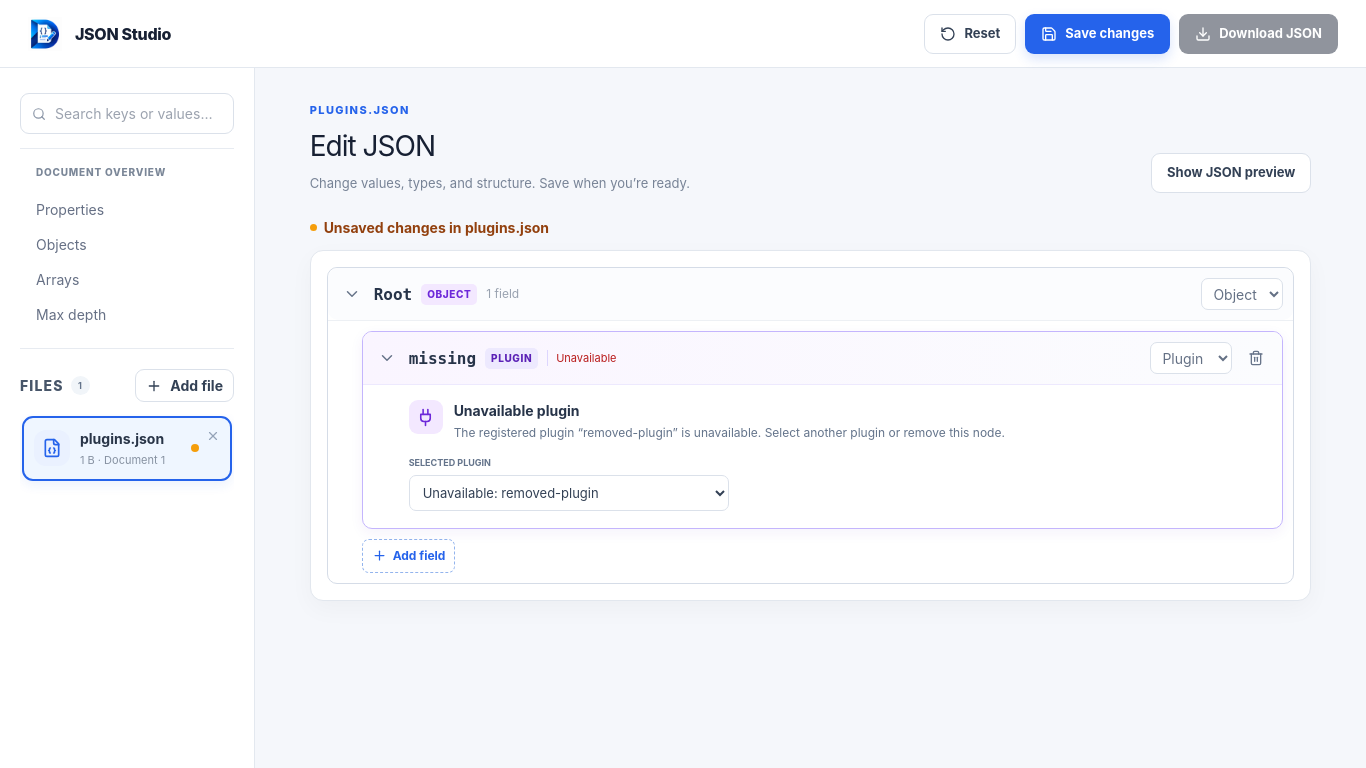
it: application workflow › restores an unavailable plugin node and blocks serialization
Expected: the text "Unavailable" is shown, [547,350,616,366]
Click the button "Save changes": (1098, 34) [1025,14,1170,54]
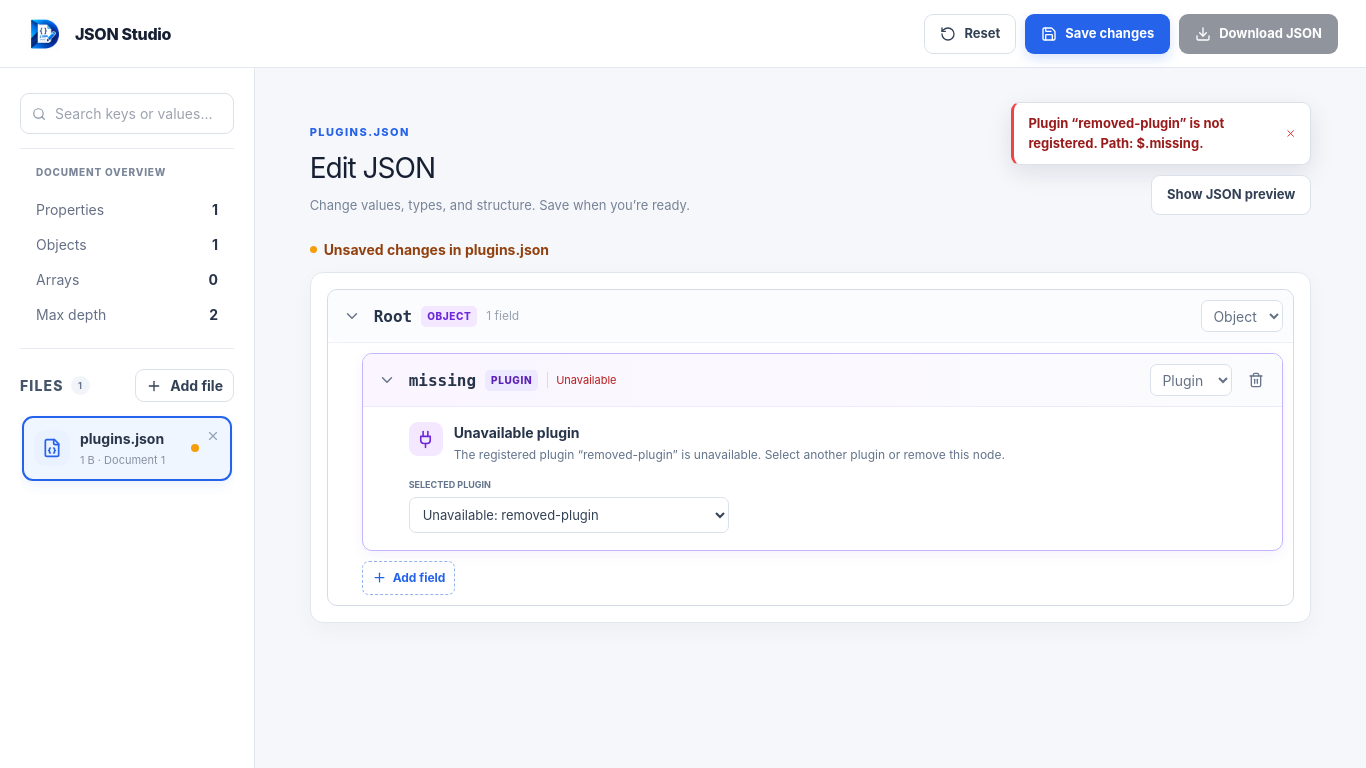
Expected: the element labelled "missing plugin" is shown, [362,353,1283,550]
Expected: the message reads "Plugin “removed-plugin” is not registered. Path: $.missing.", [1028,115,1224,150]
